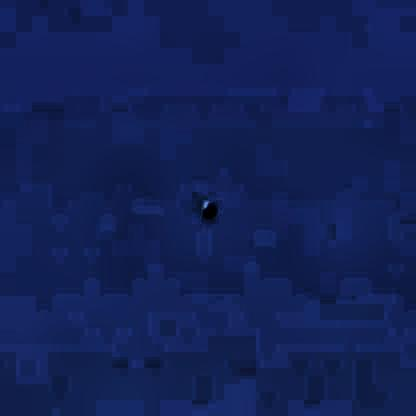golfball: (200, 195, 213, 213)
